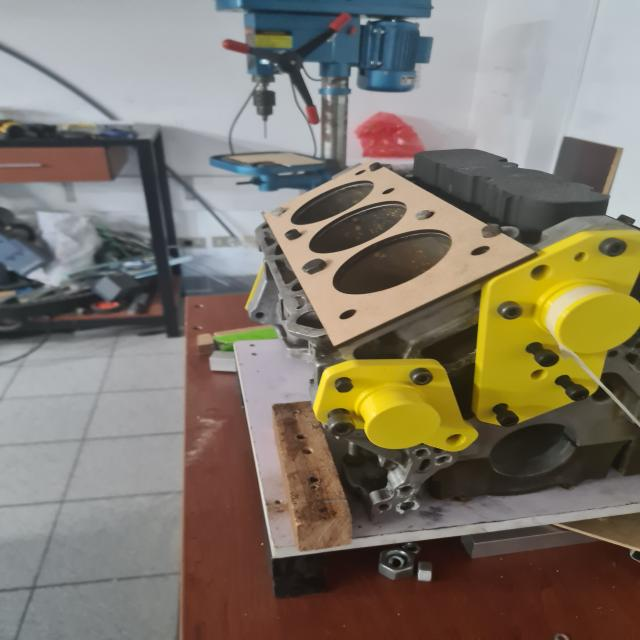vista1: (263, 160, 533, 344)
